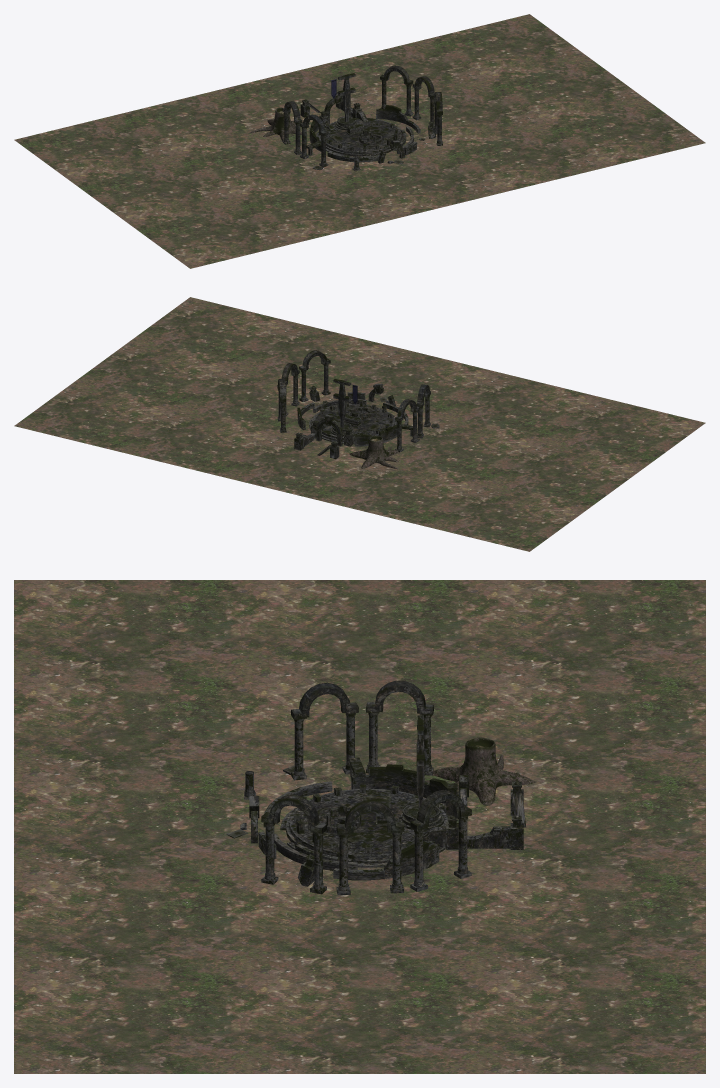
The model's file is altar_ruins.glb.
3 views of the same model, one above another, from view 1: azimuth 30°, elevation 25°; view 2: azimuth 150°, elevation 25°; view 3: azimuth 270°, elevation 25° (orthographic). The views are drawn at different scales.
Visible parts, largest first — view 1: node_Plane001_-22866_24, node_Plane001_-23938_35, node_Plane001_-26952_13, node_Plane001_-26942_17, node_Plane001_-28248_28, node_Plane001_-28228_33, node_Plane001_-26932_36, node_Plane001_-26962_11, node_Plane001_-26972_20, node_Plane001_-28218_7, node_Plane001_-22116_25, node_Plane001_-28238_12 (+8 smaller); view 2: node_Plane001_-22866_24, node_Plane001_-23938_35, node_Plane001_-26962_11, node_Plane001_-28228_33, node_Plane001_-28238_12, node_Plane001_-26932_36, node_Plane001_-26952_13, node_Plane001_-28248_28, node_Plane001_-28218_7, node_Plane001_-22116_25, node_Plane001_-28208_30, node_Plane001_-26942_17 (+8 smaller); view 3: node_Plane001_-26962_11, node_Plane001_-26942_17, node_Plane001_-28238_12, node_Plane001_-26972_20, node_Plane001_-22866_24, node_Plane001_-23938_35, node_Plane001_-26952_13, node_Plane001_-28228_33, node_Plane001_-28248_28, node_Plane001_-26932_36, node_Plane001_-28218_7, node_Plane001_-23928_26 (+8 smaller).
Part boxes in pixels (x1,y1,x2,y2): node_Plane001_-22866_24: (73,158,234,225); node_Plane001_-23938_35: (485,57,646,124); node_Plane001_-26952_13: (132,201,292,268); node_Plane001_-26942_17: (441,125,602,193); node_Plane001_-28248_28: (427,14,587,81); node_Plane001_-28228_33: (14,115,175,182); node_Plane001_-26932_36: (544,100,705,167); node_Plane001_-26962_11: (235,175,395,243); node_Plane001_-26972_20: (338,150,499,218); node_Plane001_-28218_7: (117,89,270,157); node_Plane001_-22116_25: (176,134,337,200); node_Plane001_-28238_12: (324,39,484,106); node_Plane001_-22866_24: (485,441,646,508); node_Plane001_-23938_35: (73,340,234,407); node_Plane001_-26962_11: (441,372,602,440); node_Plane001_-28228_33: (427,484,587,551); node_Plane001_-28238_12: (117,408,278,476); node_Plane001_-26932_36: (132,297,292,364); node_Plane001_-26952_13: (544,398,705,465); node_Plane001_-28248_28: (14,383,175,450); node_Plane001_-28218_7: (324,461,484,526); node_Plane001_-22116_25: (389,415,543,483); node_Plane001_-28208_30: (220,433,375,501); node_Plane001_-26942_17: (235,322,395,390); node_Plane001_-26962_11: (14,678,244,777); node_Plane001_-26942_17: (14,876,244,975); node_Plane001_-28238_12: (475,876,705,975); node_Plane001_-26972_20: (14,777,244,876); node_Plane001_-22866_24: (244,580,475,678); node_Plane001_-23938_35: (244,975,475,1073); node_Plane001_-26952_13: (14,580,244,678); node_Plane001_-28228_33: (475,580,705,678); node_Plane001_-28248_28: (475,975,705,1073); node_Plane001_-26932_36: (14,975,244,1073); node_Plane001_-28218_7: (475,678,705,777); node_Plane001_-23928_26: (244,876,475,975).
Bounding box in the file's own units: 348 × 42.69 × 206.
Materials: 7 (7 with a texture image).
